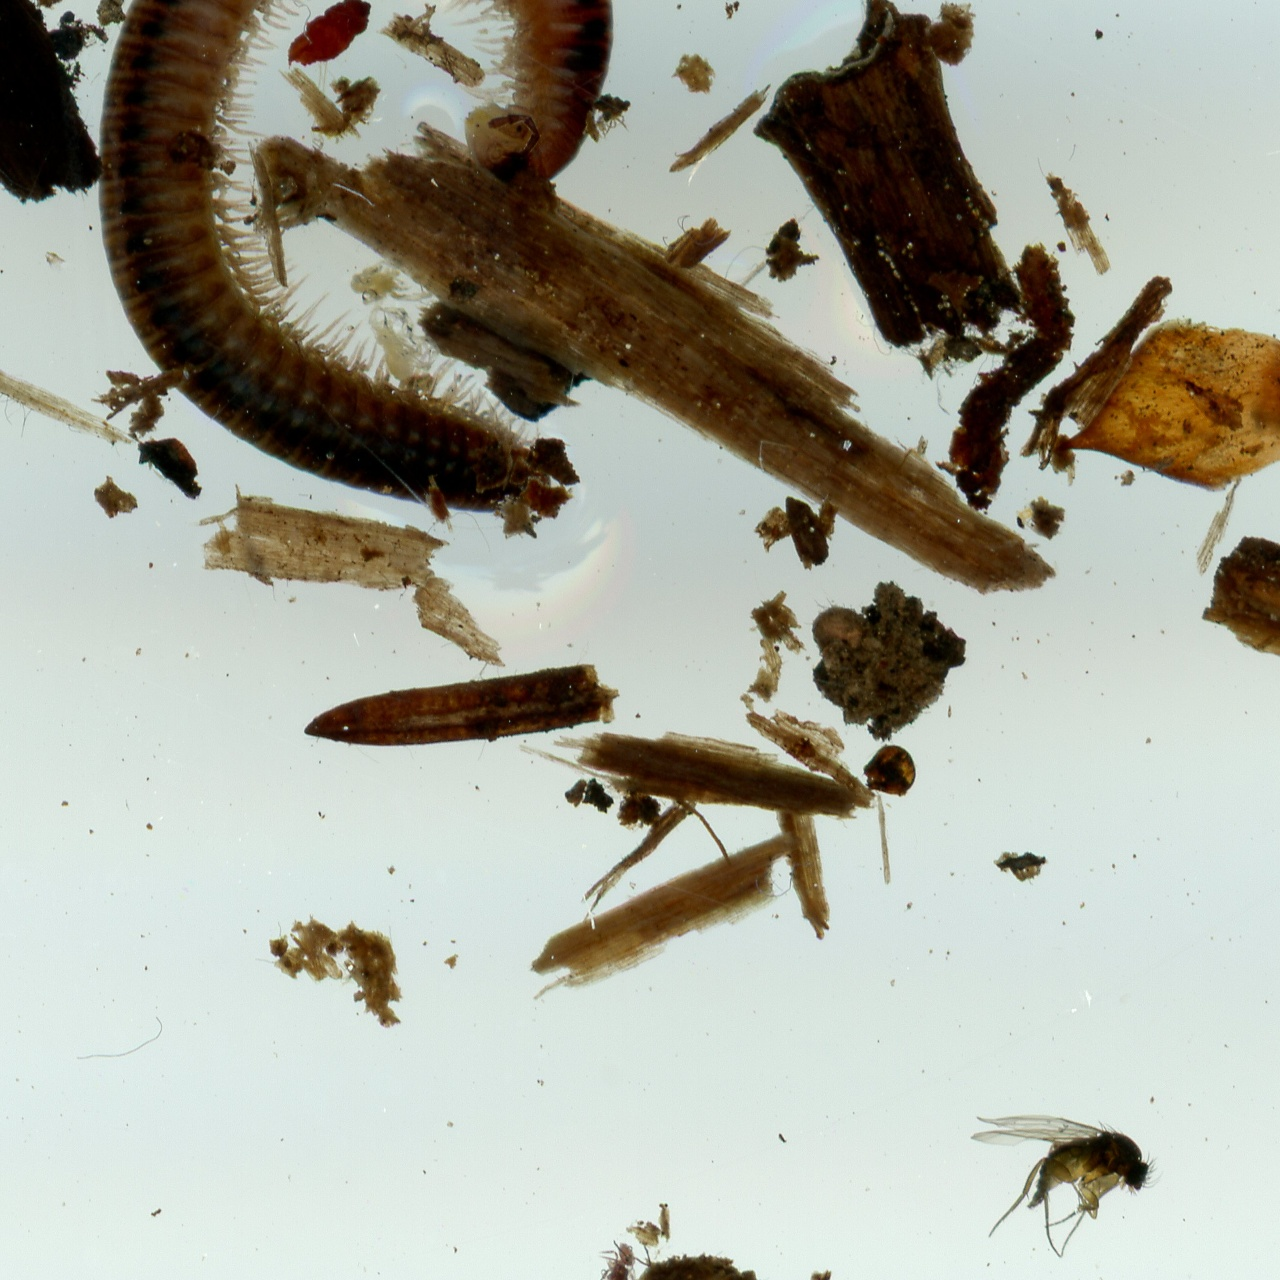arthropod: (88, 0, 624, 525), (968, 1110, 1170, 1262), (366, 300, 443, 383), (349, 260, 434, 306), (586, 1234, 647, 1280), (592, 93, 633, 141)
